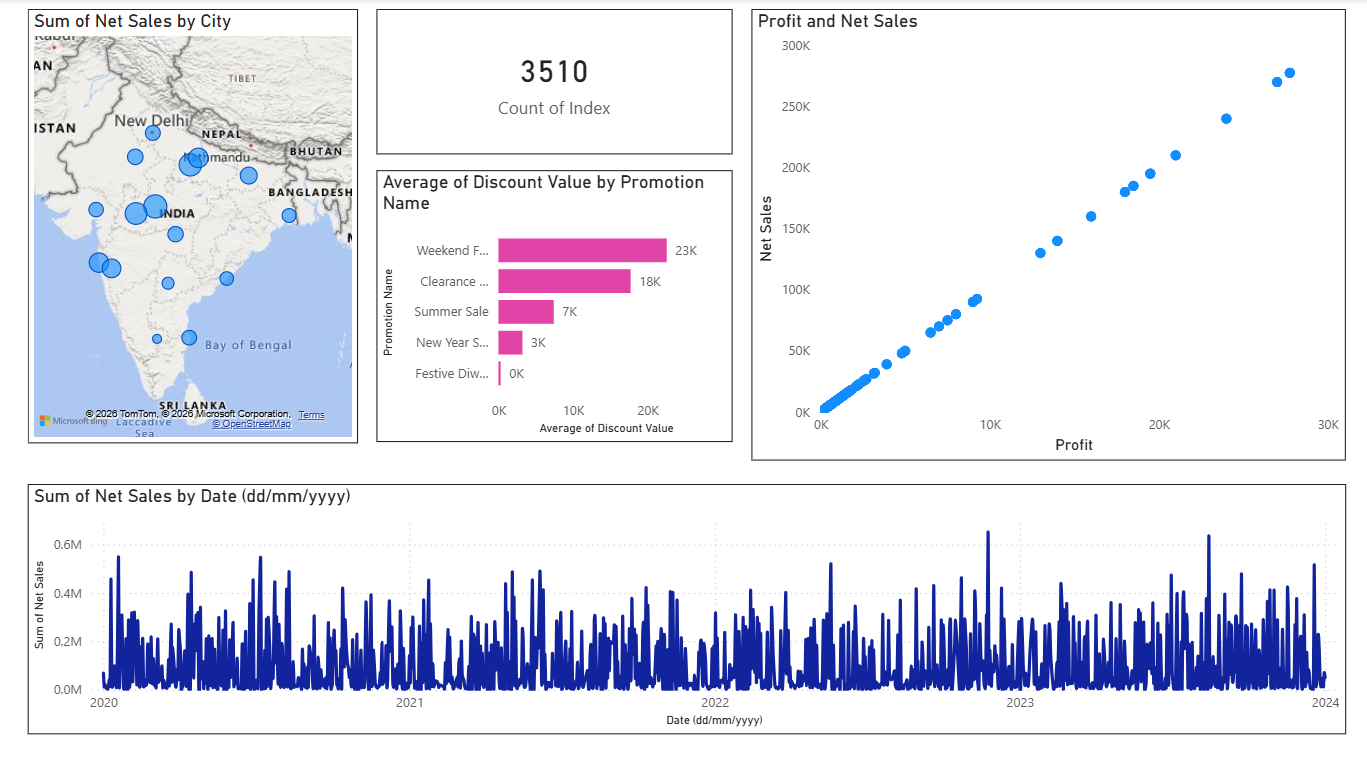

Layout of this report page (visuals, bound fields, positions):
{"tool":"powerbi","page":{"name":"Req 2,3,5,6,8","canvas":[1280,720],"ordinal":1},"visuals":[{"type":"lineChart","fields":{"Y":["Sum(Fact Table.Net Sales)"],"Category":["Fact Table.Date (dd/mm/yyyy).Variation.Date Hierarchy.Year"]},"box":[26.2,451.2,1226.2,232.5],"z":0},{"type":"scatterChart","fields":{"X":["Fact Table.Profit"],"Y":["Fact Table.Net Sales"]},"box":[700,8.8,552.5,420],"z":1000},{"type":"barChart","fields":{"Y":["Avg(Fact Table.Discount Value)"],"Category":["Dim Promotion.Promotion Name"]},"box":[351.2,158.8,331.2,252.5],"z":2000},{"type":"map","fields":{"Category":["Dim Customers.City"],"Size":["Sum(Fact Table.Net Sales)"]},"box":[26.2,8.8,307.5,403.8],"z":3000},{"type":"card","fields":{"Values":["Count(Fact Table.Index)"]},"box":[351.2,8.8,331.2,135],"z":4000}]}

Visuals, with their boxes in screenshot pixels (x1, y1, x2, y2), scaled from the page's 1280x720 canvas onto the 1367x765 screenshot:
lineChart - Sum(Fact Table.Net Sales) x Fact Table.Date (dd/mm/yyyy).Variation.Date Hierarchy.Year: box=[28, 479, 1338, 726]
scatterChart - Fact Table.Profit x Fact Table.Net Sales: box=[748, 9, 1338, 456]
barChart - Avg(Fact Table.Discount Value) x Dim Promotion.Promotion Name: box=[375, 169, 729, 437]
map - Dim Customers.City x Sum(Fact Table.Net Sales): box=[28, 9, 356, 438]
card - Count(Fact Table.Index): box=[375, 9, 729, 153]
